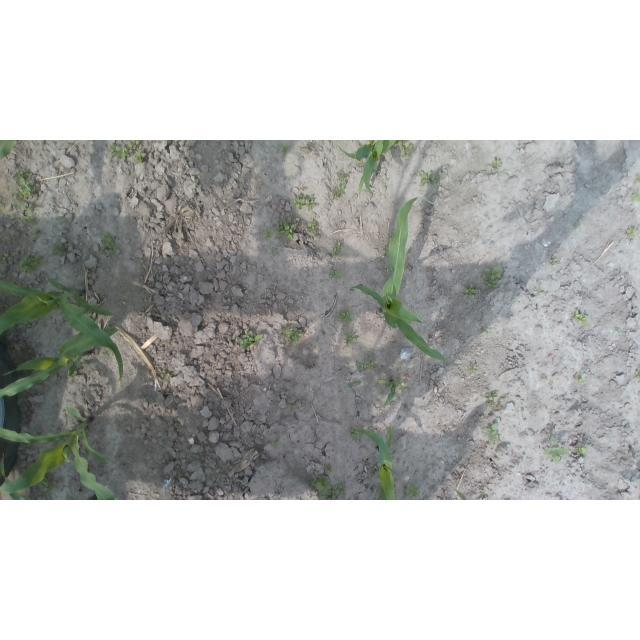Maize: (352, 195, 464, 365), (1, 277, 126, 381), (0, 406, 116, 499), (1, 328, 120, 398), (0, 453, 98, 500), (334, 140, 401, 196), (357, 425, 396, 500), (379, 379, 409, 407), (0, 141, 18, 160), (453, 487, 468, 500)
Weeds: (12, 171, 37, 206), (311, 475, 345, 500), (19, 253, 46, 273), (236, 331, 264, 349), (276, 216, 297, 240), (419, 170, 446, 188), (291, 193, 316, 212), (543, 445, 568, 463), (282, 325, 302, 347), (482, 268, 502, 289), (19, 203, 37, 226), (38, 475, 57, 496), (100, 231, 118, 253), (485, 423, 502, 445), (108, 143, 128, 161), (404, 481, 421, 500), (50, 242, 71, 257), (399, 140, 414, 157), (572, 310, 589, 325), (356, 360, 376, 372), (484, 391, 499, 407), (336, 308, 352, 322), (327, 267, 343, 281), (347, 427, 361, 442), (331, 185, 346, 198), (344, 331, 357, 345), (464, 284, 477, 298), (134, 152, 147, 165), (335, 170, 347, 184), (626, 225, 638, 239), (128, 140, 140, 152), (331, 242, 342, 255), (263, 226, 274, 239), (491, 160, 502, 173), (307, 220, 318, 232), (160, 368, 170, 380), (578, 371, 586, 385), (576, 446, 587, 456), (103, 347, 114, 357), (348, 380, 361, 388), (481, 326, 494, 334), (468, 363, 478, 373), (31, 231, 41, 241), (632, 190, 640, 202), (281, 145, 290, 155), (2, 252, 11, 261), (325, 466, 333, 476), (288, 401, 296, 410), (272, 438, 281, 446), (0, 204, 6, 215), (536, 284, 542, 294), (548, 436, 556, 443), (59, 215, 66, 221), (636, 370, 640, 379), (551, 260, 558, 265), (636, 175, 640, 183), (575, 223, 580, 228), (480, 490, 485, 494), (268, 252, 273, 256)
